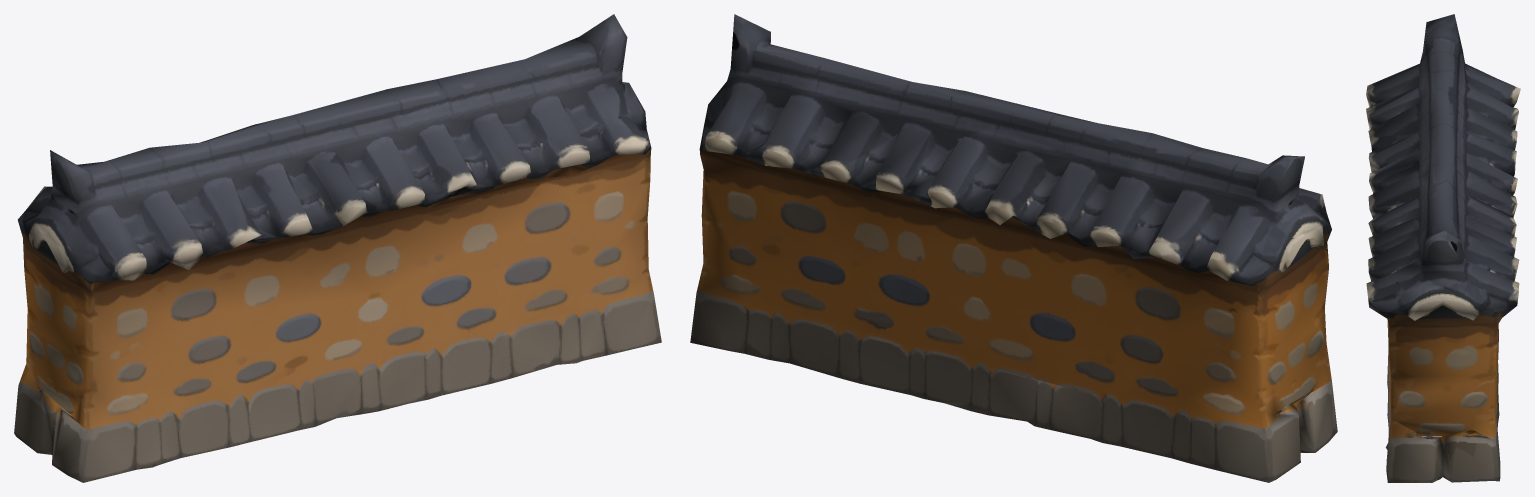
Rendered from wall_earth.glb.
The picture shows the model from 3 angles, left to right: view 1: azimuth 30°, elevation 25°; view 2: azimuth 150°, elevation 25°; view 3: azimuth 270°, elevation 25°; orthographic projection. The views are drawn at different scales.
Parts seen in each view (by area): view 1: low; view 2: low; view 3: low.
Boxes of the visible parts, x1,y1,x2,y2 form: low: [14, 14, 661, 482]; low: [690, 14, 1337, 482]; low: [1366, 14, 1520, 482].
Bounding box in the file's own units: 1 × 0.5018 × 0.284.
1 material, 1 textured.
